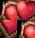heart: (17, 0, 35, 20), (0, 0, 17, 20), (17, 20, 35, 38)
